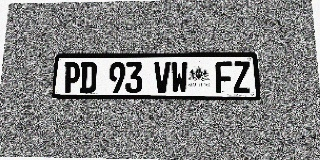3: (125, 62, 142, 93)
9: (108, 62, 126, 93)
D: (79, 62, 97, 93)
F: (215, 61, 233, 93)
P: (63, 62, 81, 93)
V: (154, 62, 171, 93)
W: (171, 62, 188, 93)
Z: (233, 61, 251, 93)
